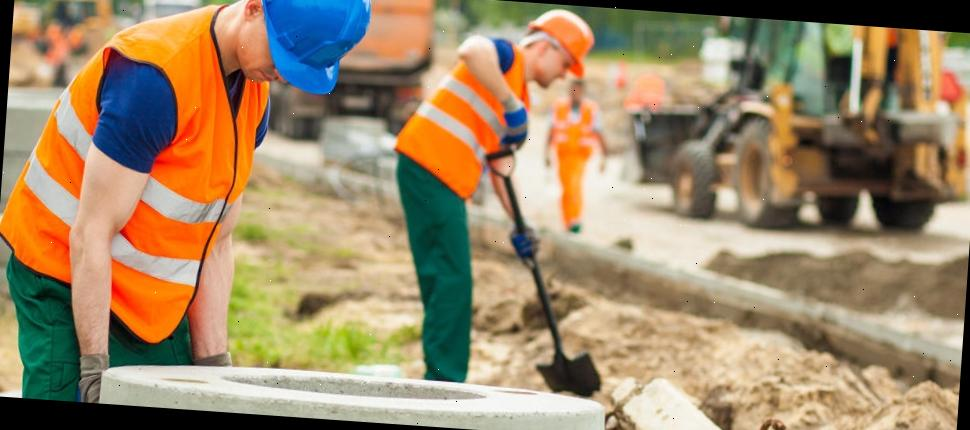helmet: (245, 0, 376, 100), (524, 6, 598, 78)
wear: (0, 61, 274, 286), (391, 35, 530, 199)
